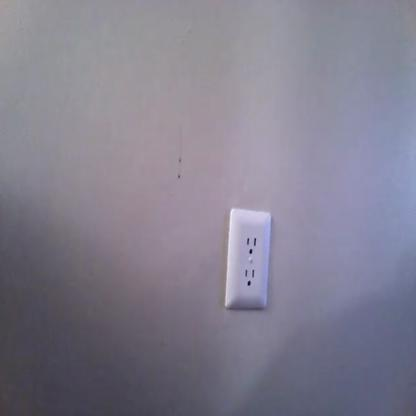OUTLET: (230, 209, 268, 310)
